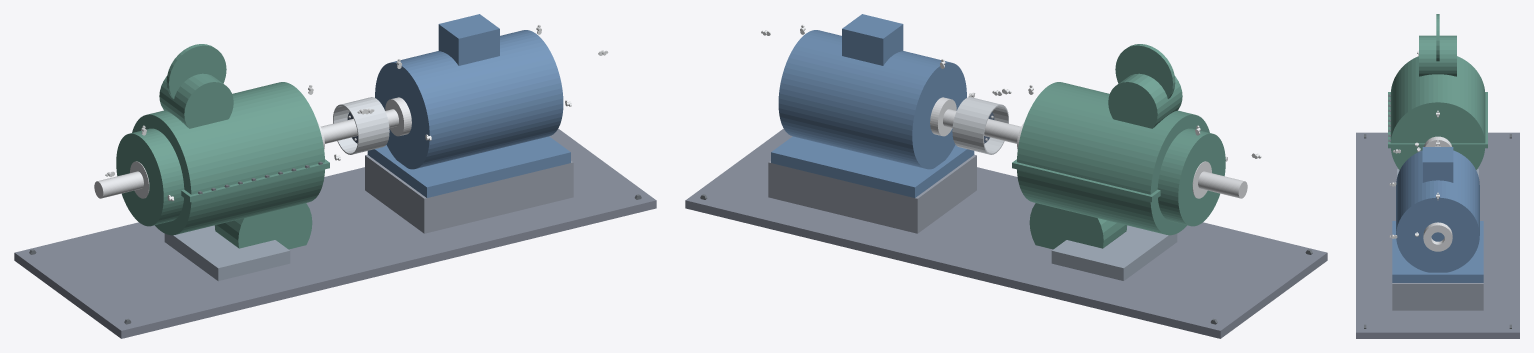
File: turbine.glb
The picture shows the model from 3 angles, left to right: view 1: azimuth 30°, elevation 25°; view 2: azimuth 150°, elevation 25°; view 3: azimuth 270°, elevation 25°; orthographic projection. The views are drawn at different scales.
Visible parts, largest first — view 1: PART_001, CASING_GENCASE_046, CASING_TURBCASE_006, PART_050, CASING_GENFOOT_047, CASING_TURBCASE_007, CASING_PEDESTAL_022, CASING_EXHAUST_021, CASING_INLET_019, CASING_TERMBOX_048, CASING_GUARD_045, CASING_INLET_020 (+3 smaller); view 2: PART_001, CASING_GENCASE_046, CASING_TURBCASE_006, PART_050, CASING_GENFOOT_047, CASING_TURBCASE_007, CASING_PEDESTAL_022, CASING_EXHAUST_021, CASING_INLET_019, CASING_TERMBOX_048, CASING_GUARD_045, CASING_INLET_020 (+3 smaller); view 3: PART_001, CASING_GENCASE_046, CASING_TURBCASE_006, PART_050, CASING_GENFOOT_047, CASING_INLET_019, CASING_TERMBOX_048, CASING_SPLITLINE_008, BRG_GEN_NDE, BRG_TURB_DE, CASING_INLET_020.
Part boxes in pixels (x1=…): PART_001: x1=14, y1=128, x2=656, y2=338; CASING_GENCASE_046: x1=375, y1=30, x2=563, y2=169; CASING_TURBCASE_006: x1=132, y1=82, x2=324, y2=235; PART_050: x1=365, y1=154, x2=573, y2=233; CASING_GENFOOT_047: x1=367, y1=136, x2=570, y2=197; CASING_TURBCASE_007: x1=116, y1=128, x2=184, y2=226; CASING_PEDESTAL_022: x1=164, y1=225, x2=290, y2=280; CASING_EXHAUST_021: x1=214, y1=203, x2=312, y2=249; CASING_INLET_019: x1=159, y1=73, x2=233, y2=128; CASING_TERMBOX_048: x1=438, y1=14, x2=499, y2=65; CASING_GUARD_045: x1=333, y1=97, x2=389, y2=154; CASING_INLET_020: x1=166, y1=44, x2=226, y2=98; PART_001: x1=685, y1=128, x2=1327, y2=338; CASING_GENCASE_046: x1=778, y1=30, x2=966, y2=169; CASING_TURBCASE_006: x1=1017, y1=82, x2=1209, y2=235; PART_050: x1=768, y1=154, x2=976, y2=233; CASING_GENFOOT_047: x1=771, y1=136, x2=974, y2=197; CASING_TURBCASE_007: x1=1157, y1=128, x2=1225, y2=226; CASING_PEDESTAL_022: x1=1051, y1=225, x2=1177, y2=280; CASING_EXHAUST_021: x1=1029, y1=203, x2=1127, y2=249; CASING_INLET_019: x1=1108, y1=73, x2=1182, y2=128; CASING_TERMBOX_048: x1=842, y1=14, x2=903, y2=65; CASING_GUARD_045: x1=952, y1=97, x2=1008, y2=154; CASING_INLET_020: x1=1115, y1=44, x2=1175, y2=98; PART_001: x1=1356, y1=132, x2=1519, y2=338; CASING_GENCASE_046: x1=1396, y1=150, x2=1479, y2=272; CASING_TURBCASE_006: x1=1390, y1=56, x2=1485, y2=169; PART_050: x1=1392, y1=283, x2=1483, y2=310; CASING_GENFOOT_047: x1=1392, y1=221, x2=1483, y2=282; CASING_INLET_019: x1=1419, y1=35, x2=1456, y2=76; CASING_TERMBOX_048: x1=1422, y1=147, x2=1453, y2=182; CASING_SPLITLINE_008: x1=1388, y1=92, x2=1487, y2=148; BRG_GEN_NDE: x1=1423, y1=222, x2=1452, y2=251; BRG_TURB_DE: x1=1424, y1=136, x2=1451, y2=146; CASING_INLET_020: x1=1436, y1=14, x2=1439, y2=61.
Bounding box in the file's own units: 5.2 × 2.16 × 1.8.
